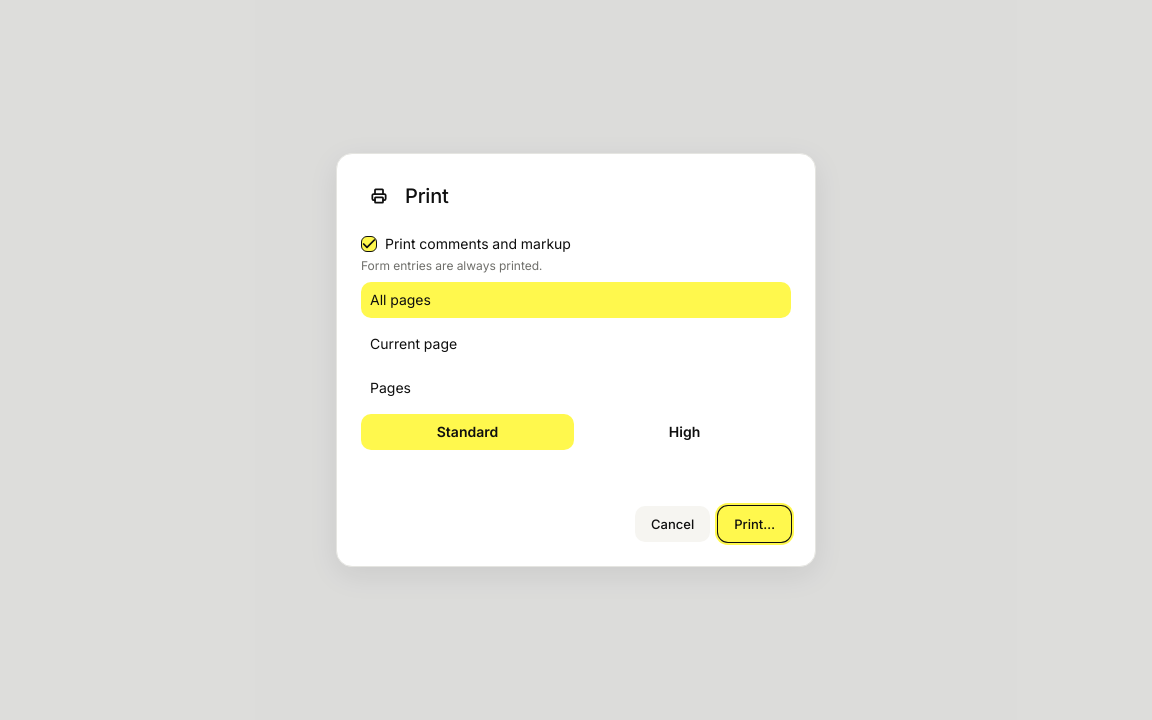
the print flow › does not print an invalid range
Click the radio button labelled "Pages" at (390, 388), box 361,370 -> 791,406
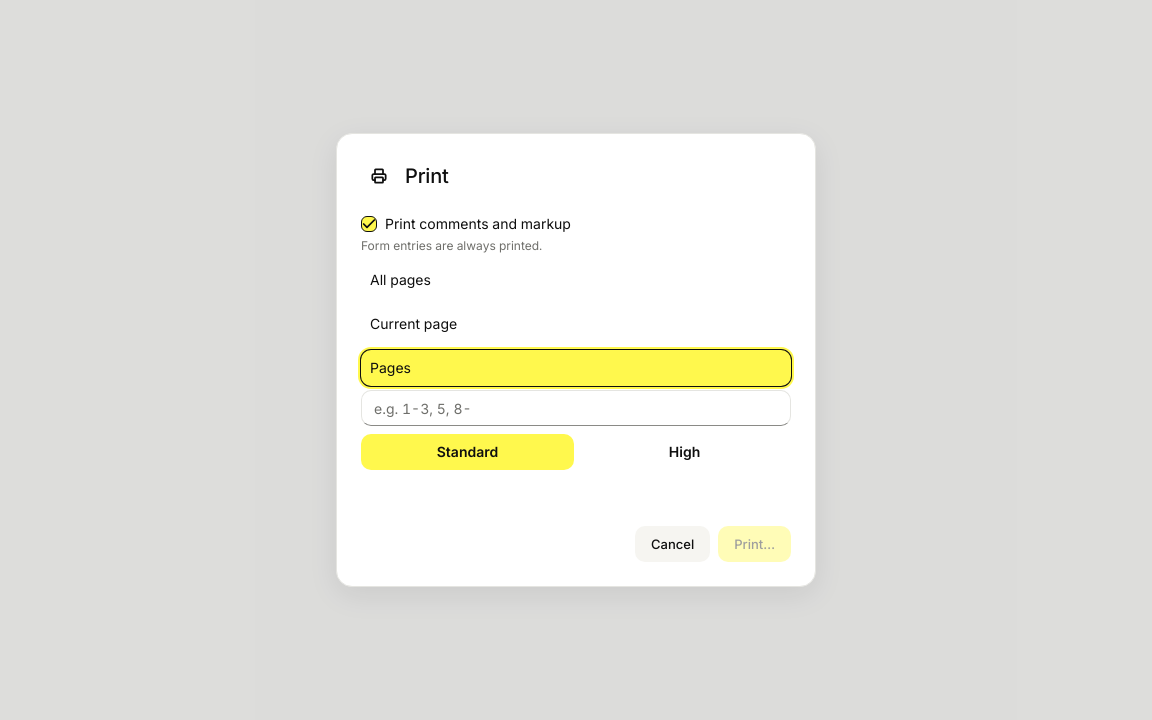
Type "9" into the field named "Pages" at (576, 408), box 361,390 -> 791,426
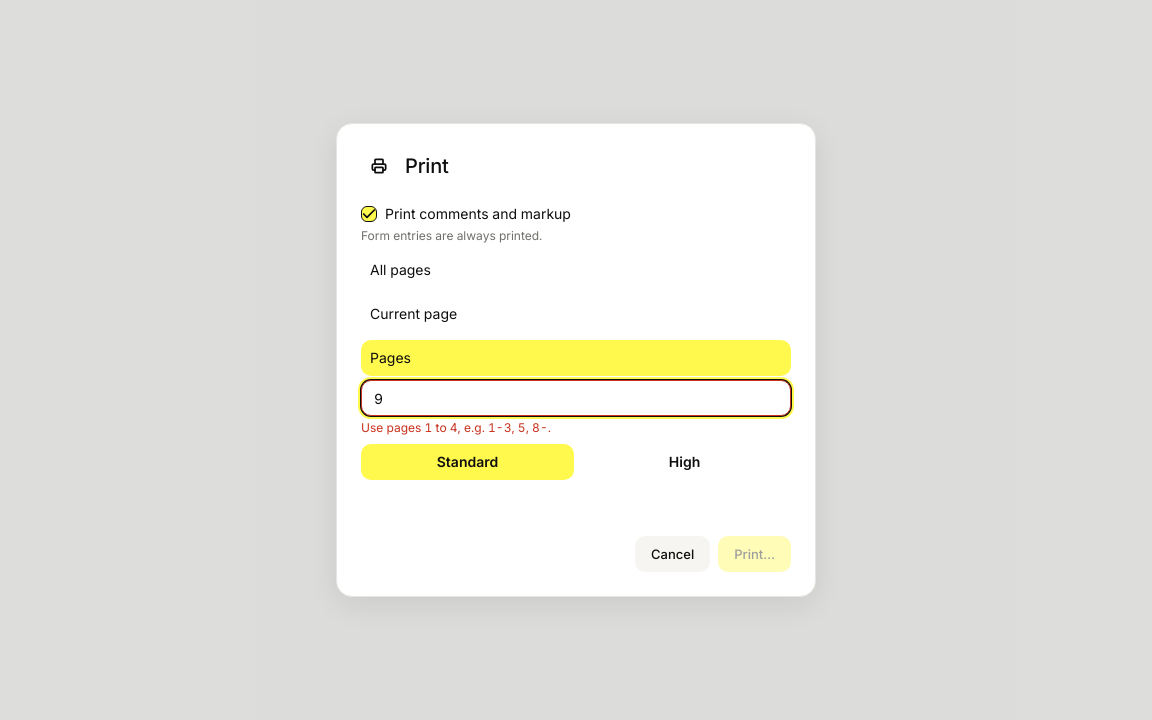
Check: the text "Use pages 1 to 4, e.g. 1-3, 5, 8-." is shown, box 361,420 -> 551,435
